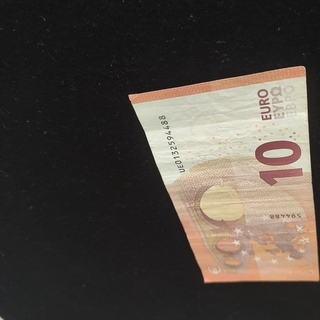10EUROBack: (128, 65, 320, 284)
